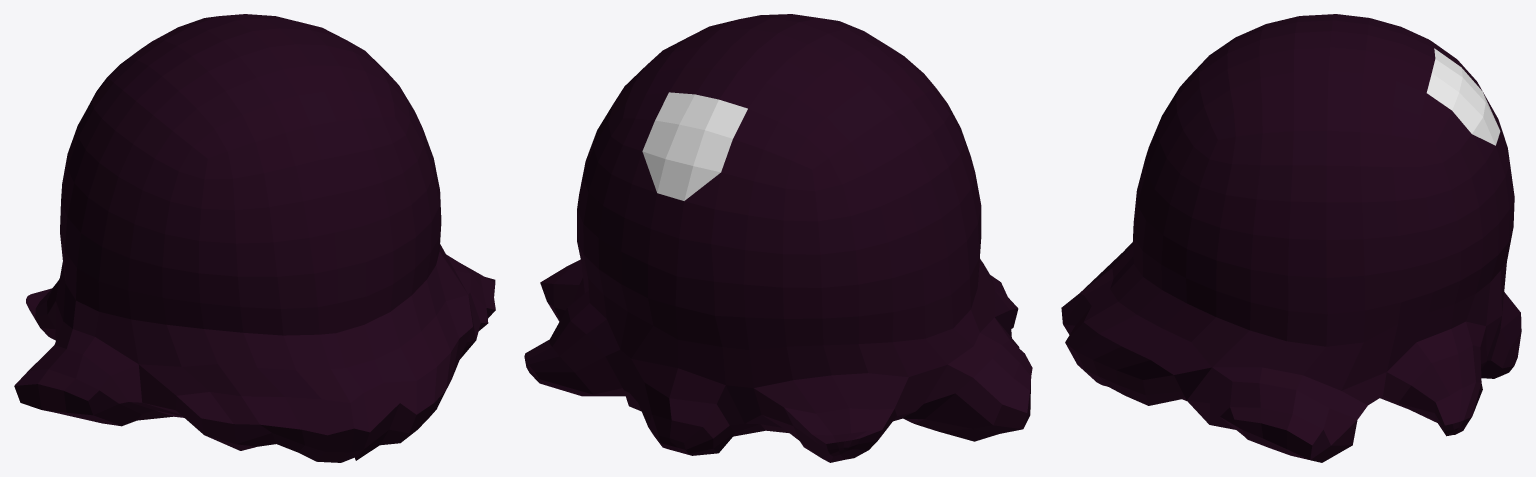
Rendered from phobos.fbx.
The picture shows the model from 3 angles, left to right: view 1: azimuth 30°, elevation 25°; view 2: azimuth 150°, elevation 25°; view 3: azimuth 270°, elevation 25°; orthographic projection. The views are drawn at different scales.
Parts seen in each view (by area): view 1: fobos cuerpo; view 2: fobos cuerpo, mascara ojos; view 3: fobos cuerpo, mascara ojos.
Boxes of the visible parts, left/top/right/bottom form: fobos cuerpo: left=14, top=14, right=495, bottom=462; fobos cuerpo: left=524, top=14, right=1032, bottom=462; mascara ojos: left=642, top=92, right=747, bottom=200; fobos cuerpo: left=1061, top=14, right=1521, bottom=462; mascara ojos: left=1426, top=48, right=1500, bottom=145.
Bounding box in the file's own units: 2.49 × 1.73 × 2.1.
